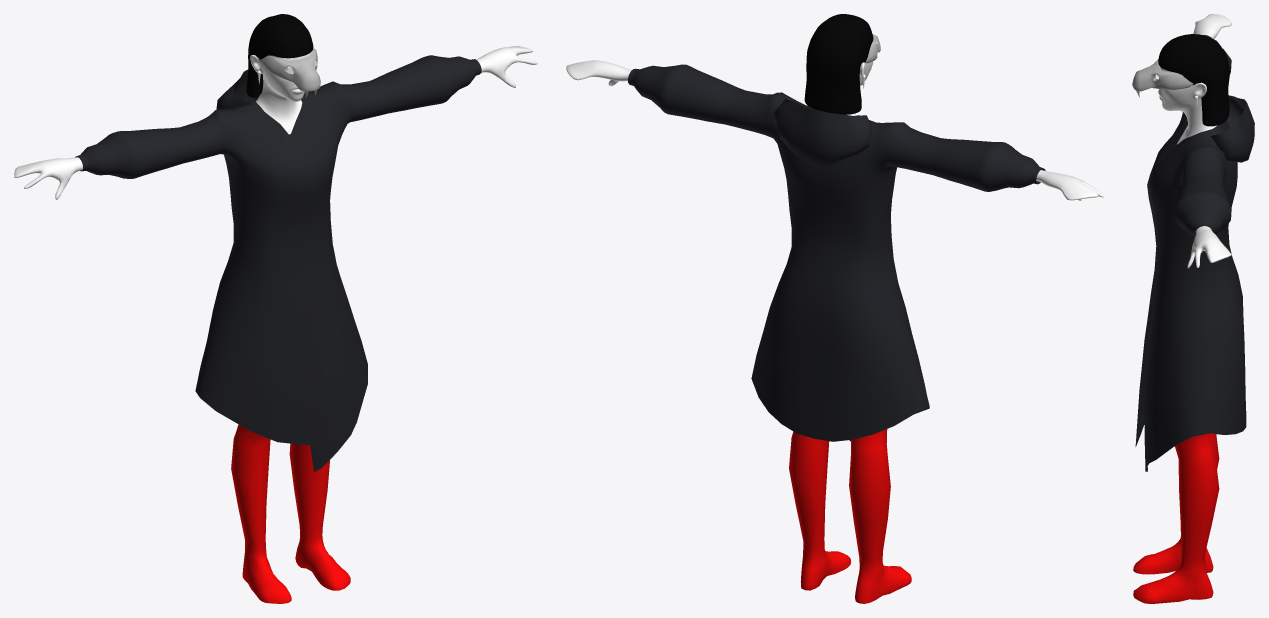
File: june_uv_001.fbx
3 renders of one model, left to right at view 1: azimuth 30°, elevation 25°; view 2: azimuth 150°, elevation 25°; view 3: azimuth 270°, elevation 25°, orthographic. The views are drawn at different scales.
Visible parts, largest first — view 1: june_nova_005_roupa_geo, june_nova_005_pernas_geo, june_nova_005_corpo_geo, june_nova_005_cabelo_geo, june_nova_005_mascara_geo; view 2: june_nova_005_roupa_geo, june_nova_005_pernas_geo, june_nova_005_cabelo_geo, june_nova_005_corpo_geo; view 3: june_nova_005_roupa_geo, june_nova_005_pernas_geo, june_nova_005_cabelo_geo, june_nova_005_corpo_geo, june_nova_005_mascara_geo.
Boxes of the visible parts, x1,y1,x2,y2 form: june_nova_005_roupa_geo: [75, 55, 481, 471]; june_nova_005_pernas_geo: [231, 424, 350, 603]; june_nova_005_corpo_geo: [14, 46, 537, 199]; june_nova_005_cabelo_geo: [246, 14, 313, 97]; june_nova_005_mascara_geo: [260, 48, 320, 97]; june_nova_005_roupa_geo: [628, 64, 1045, 441]; june_nova_005_pernas_geo: [789, 429, 911, 603]; june_nova_005_cabelo_geo: [804, 14, 873, 114]; june_nova_005_corpo_geo: [566, 60, 1103, 200]; june_nova_005_roupa_geo: [1135, 35, 1254, 471]; june_nova_005_pernas_geo: [1133, 433, 1219, 603]; june_nova_005_cabelo_geo: [1158, 34, 1229, 126]; june_nova_005_corpo_geo: [1158, 14, 1231, 268]; june_nova_005_mascara_geo: [1132, 59, 1193, 97].
Size of the model in its own units: 175 by 179 by 36.6.
